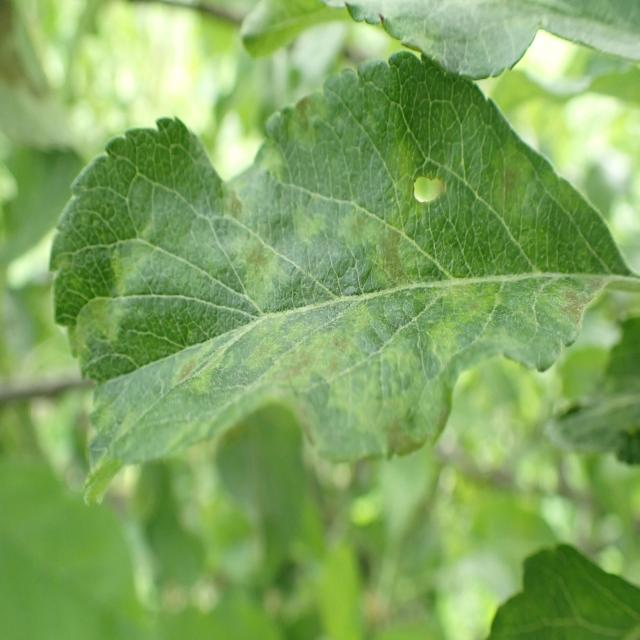scab: (99, 86, 606, 471)
